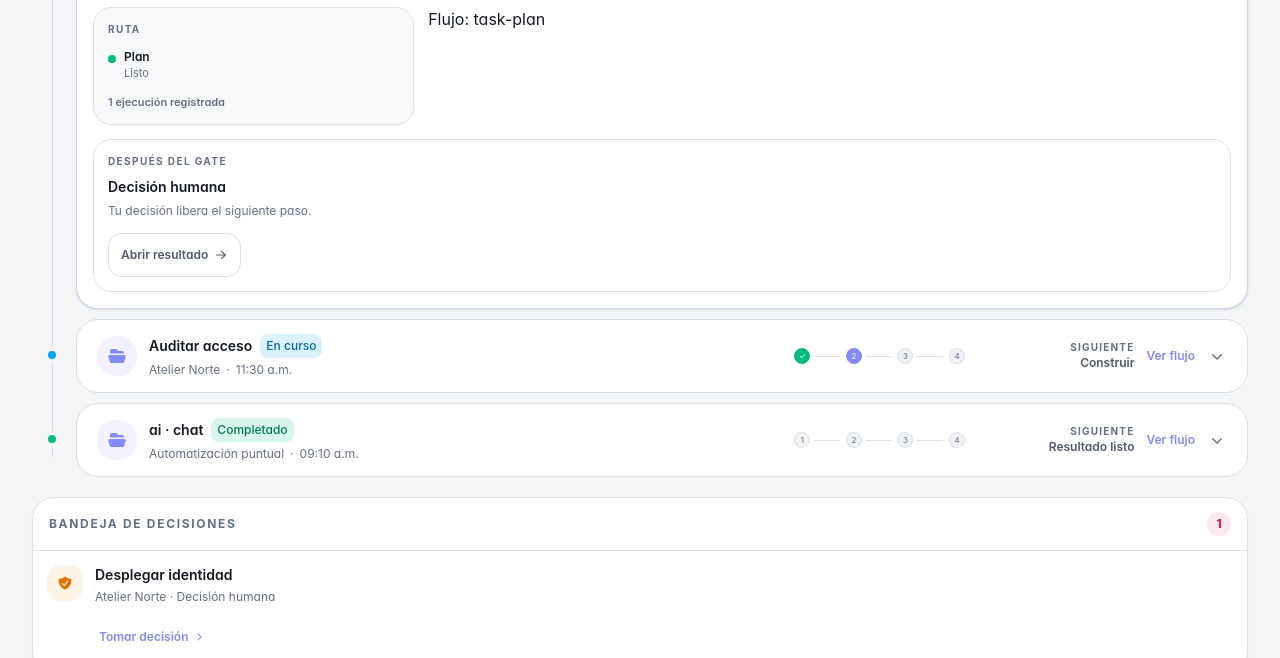
Test: AutomationPage › moves the expanded flow to the selected result instead of duplicating a long detail panel
This screenshot has width=1280, height=658.
(page scrolled)
Click the button with aria-label "Abrir flujo de Auditar acceso".
click(117, 356)  # box [77, 320, 1247, 392]
(page scrolled)
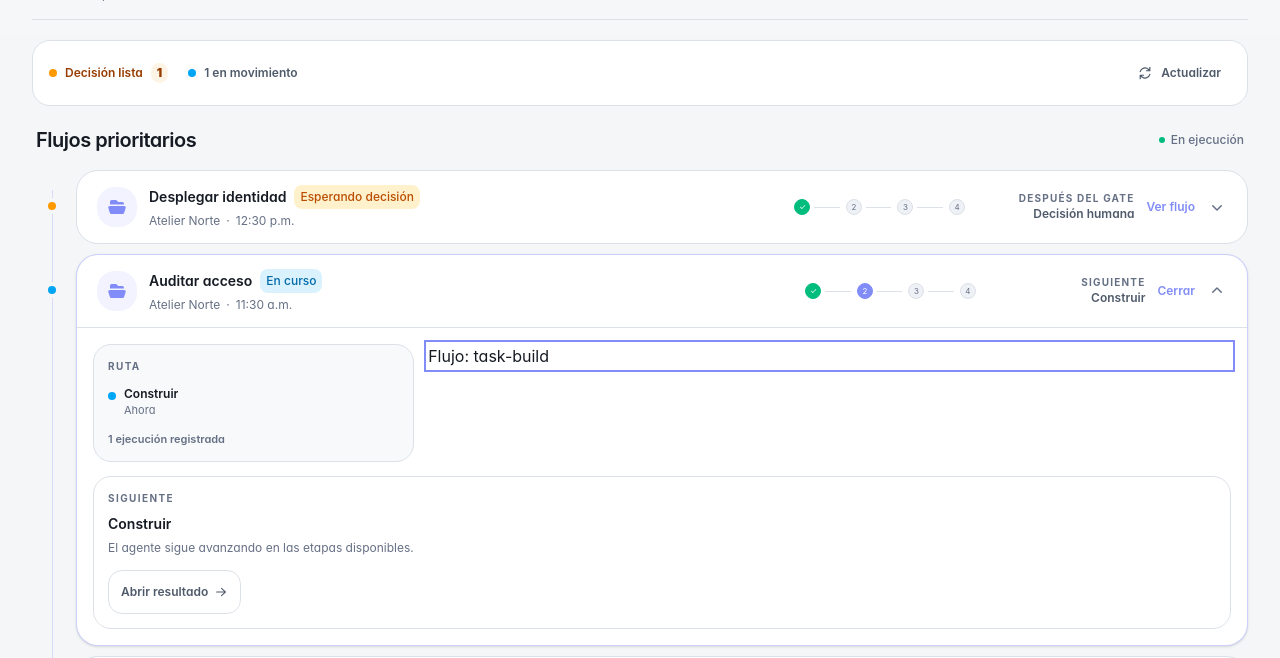
Result: the text with test id "execution-graph" shows "task-build" at [474, 346, 549, 366]
Result: the text "El agente sigue avanzando en las etapas disponibles." is shown at [108, 540, 414, 555]
